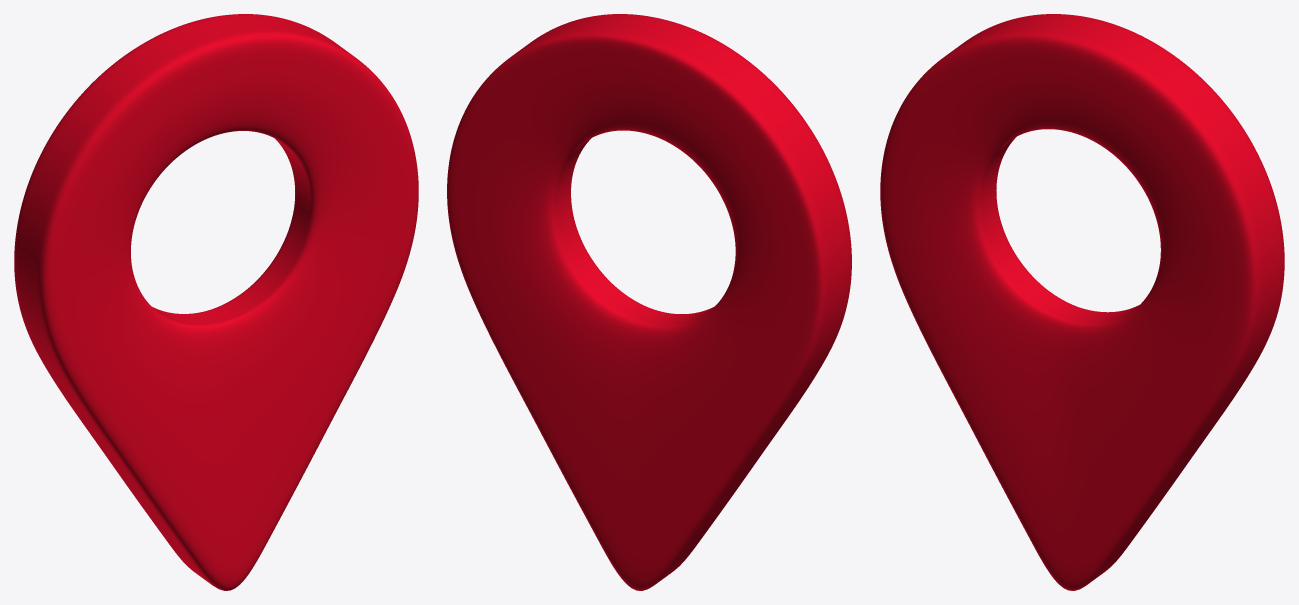
File: Location.glb
3 views of the same model, side by side, from view 1: azimuth 30°, elevation 25°; view 2: azimuth 150°, elevation 25°; view 3: azimuth 330°, elevation 25° (orthographic).
Parts seen in each view (by area): view 1: Object_2; view 2: Object_2; view 3: Object_2.
Boxes of the visible parts, x1=… form: Object_2: x1=14, y1=14, x2=418, y2=590; Object_2: x1=447, y1=14, x2=851, y2=590; Object_2: x1=880, y1=14, x2=1284, y2=590.
Size of the model in its own units: 2.6 by 3.63 by 0.3956.
